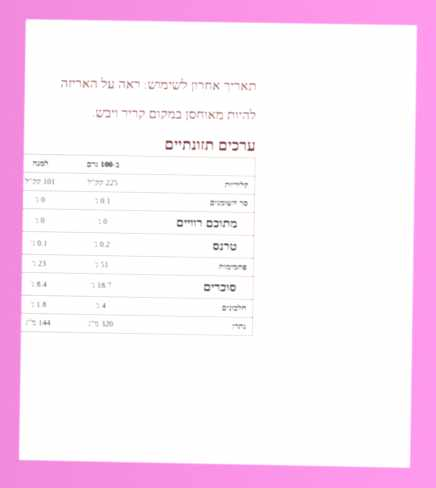carbs: (93, 259, 110, 270)
energy: (86, 177, 119, 188)
fat: (93, 195, 112, 206)
protein: (94, 300, 107, 311)
